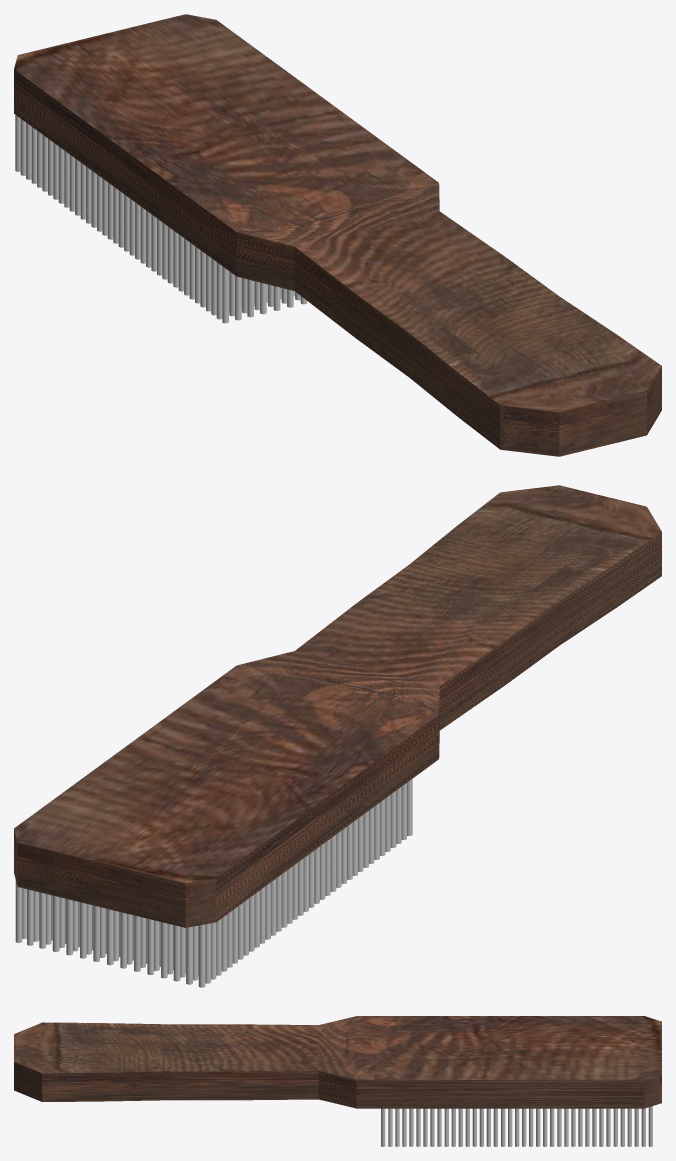
3 renders of one model, top to bottom at view 1: azimuth 30°, elevation 25°; view 2: azimuth 150°, elevation 25°; view 3: azimuth 270°, elevation 25°, orthographic. The views are drawn at different scales.
Visible parts, largest first — view 1: Box001; view 2: Box001; view 3: Box001.
Part boxes in pixels (bbox=[...]): Box001: bbox=[14, 14, 661, 456]; Box001: bbox=[14, 485, 661, 927]; Box001: bbox=[14, 1016, 661, 1108].
Bounding box in the file's own units: 4.11 × 2.08 × 17.64.
1 material, 1 textured.
